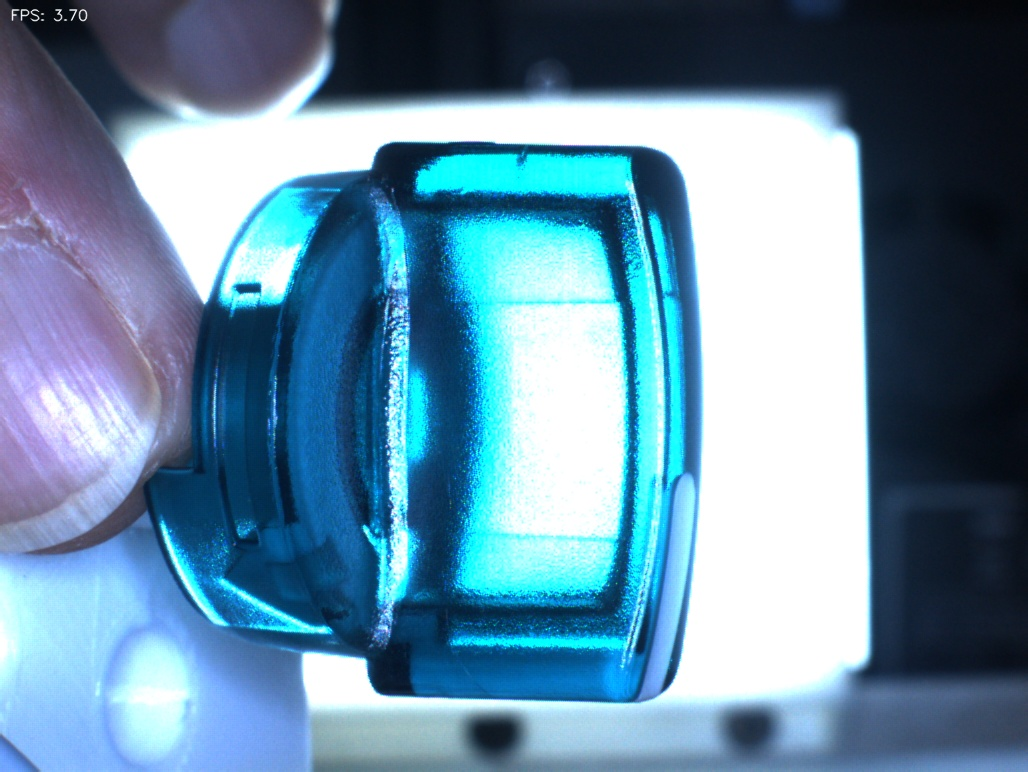Bulle: (473, 99, 565, 199)
